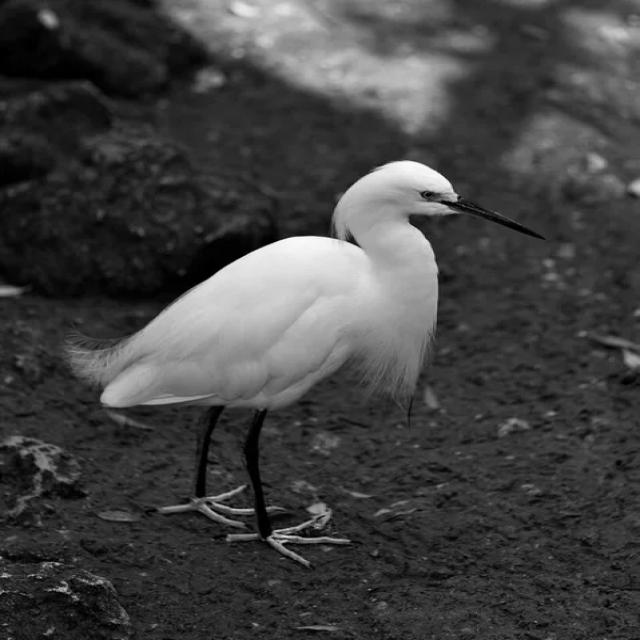Animal: (65, 161, 542, 569)
